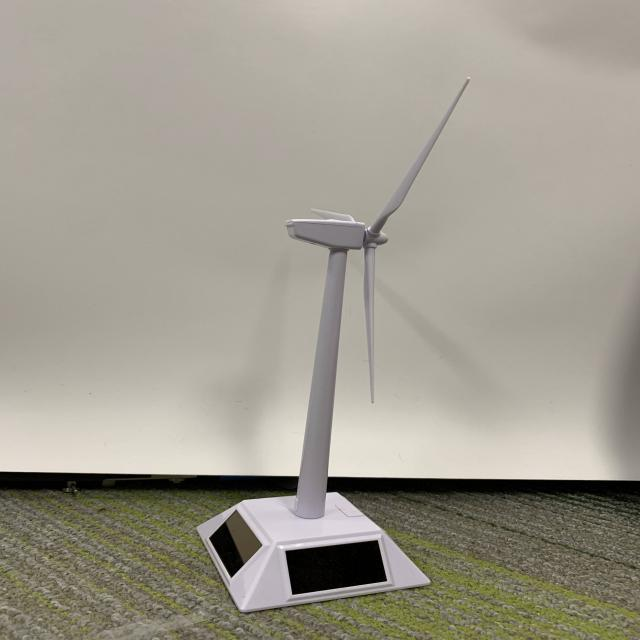solid-blade: (369, 78, 469, 234), (364, 240, 378, 403)
